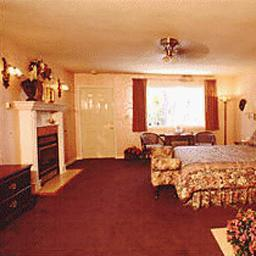Cama: (175, 143, 254, 206)
Puerta: (80, 84, 116, 159)
Ventana: (138, 79, 215, 127)
